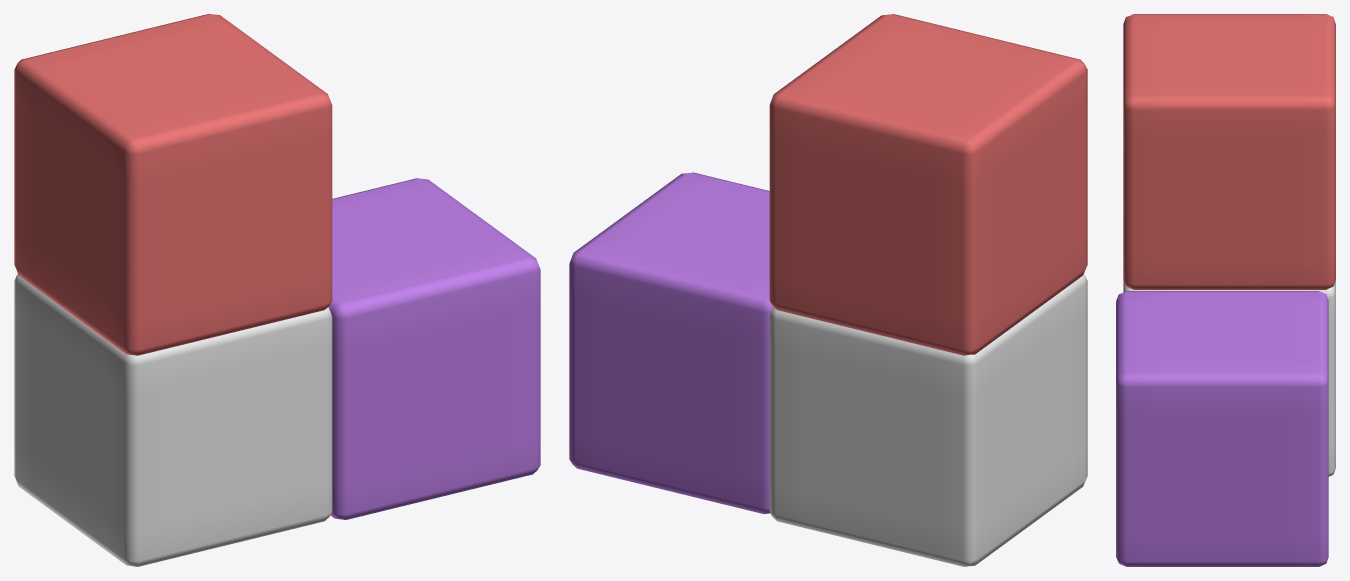
The model's file is TETRIS MODELO.fbx.
3 views of the same model, side by side, from view 1: azimuth 30°, elevation 25°; view 2: azimuth 150°, elevation 25°; view 3: azimuth 270°, elevation 25° (orthographic). The views are drawn at different scales.
Parts seen in each view (by area): view 1: pCube2, pCube1, pCube3; view 2: pCube2, pCube1, pCube3; view 3: pCube2, pCube3, pCube1.
Boxes of the visible parts, x1,y1,x2,y2 form: pCube2: (14, 14, 332, 355); pCube1: (14, 274, 332, 566); pCube3: (328, 178, 540, 519); pCube2: (769, 14, 1087, 355); pCube1: (769, 274, 1087, 566); pCube3: (569, 172, 772, 514); pCube2: (1123, 14, 1335, 289); pCube3: (1116, 291, 1328, 566); pCube1: (1123, 280, 1335, 476).
Bounding box in the file's own units: 1.99 × 1.98 × 1.03.
